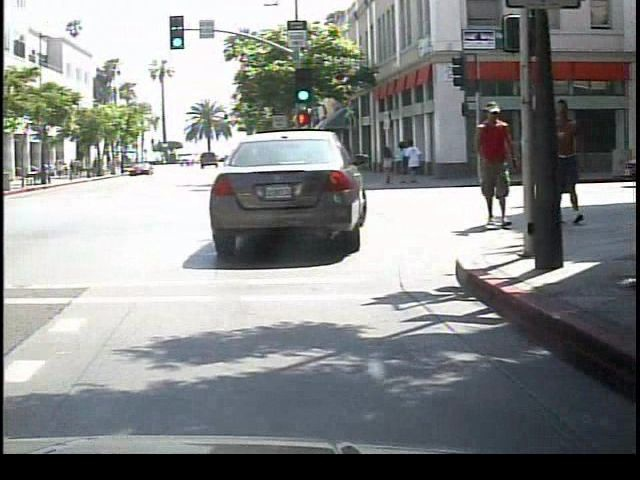person: (538, 96, 590, 232), (468, 98, 518, 232)
